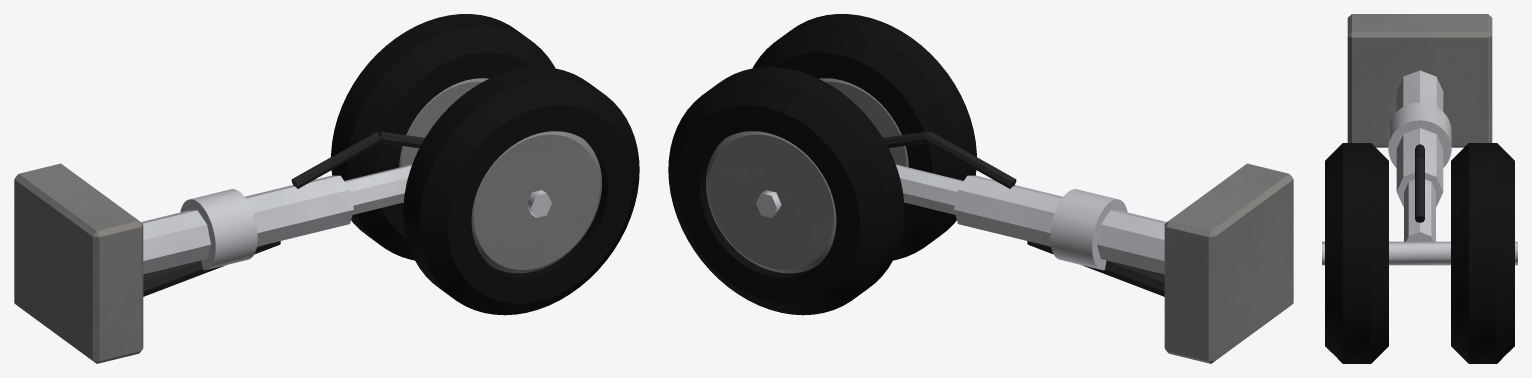
File: ax_gear_02_main_gear_s.glb
The picture shows the model from 3 angles, left to right: view 1: azimuth 30°, elevation 25°; view 2: azimuth 150°, elevation 25°; view 3: azimuth 270°, elevation 25°; orthographic projection. The views are drawn at different scales.
Visible parts, largest first — view 1: wheel_tyres, mount_block, wheel_hubs, gear_leg, gear_links, gear_axles; view 2: wheel_tyres, mount_block, wheel_hubs, gear_leg, gear_links, gear_axles; view 3: wheel_tyres, mount_block, gear_leg, gear_axles, gear_links.
Boxes of the visible parts, box(x1,y1,x2,y2) form: wheel_tyres: box(331, 14, 639, 315); mount_block: box(14, 163, 143, 363); wheel_hubs: box(399, 78, 601, 273); gear_leg: box(141, 164, 412, 274); gear_links: box(143, 131, 424, 296); gear_axles: box(526, 190, 551, 217); wheel_tyres: box(668, 14, 976, 315); mount_block: box(1164, 163, 1293, 363); wheel_hubs: box(706, 78, 908, 273); gear_leg: box(895, 164, 1166, 274); gear_links: box(883, 131, 1164, 296); gear_axles: box(756, 190, 781, 217); wheel_tyres: box(1325, 143, 1514, 363); mount_block: box(1347, 14, 1492, 147); gear_leg: box(1388, 70, 1451, 241); gear_axles: box(1322, 241, 1517, 265); gear_links: box(1415, 144, 1424, 222).
Size of the model in its own units: 1.28 by 0.5198 by 0.46.
Materials: 4 (2 with a texture image).
